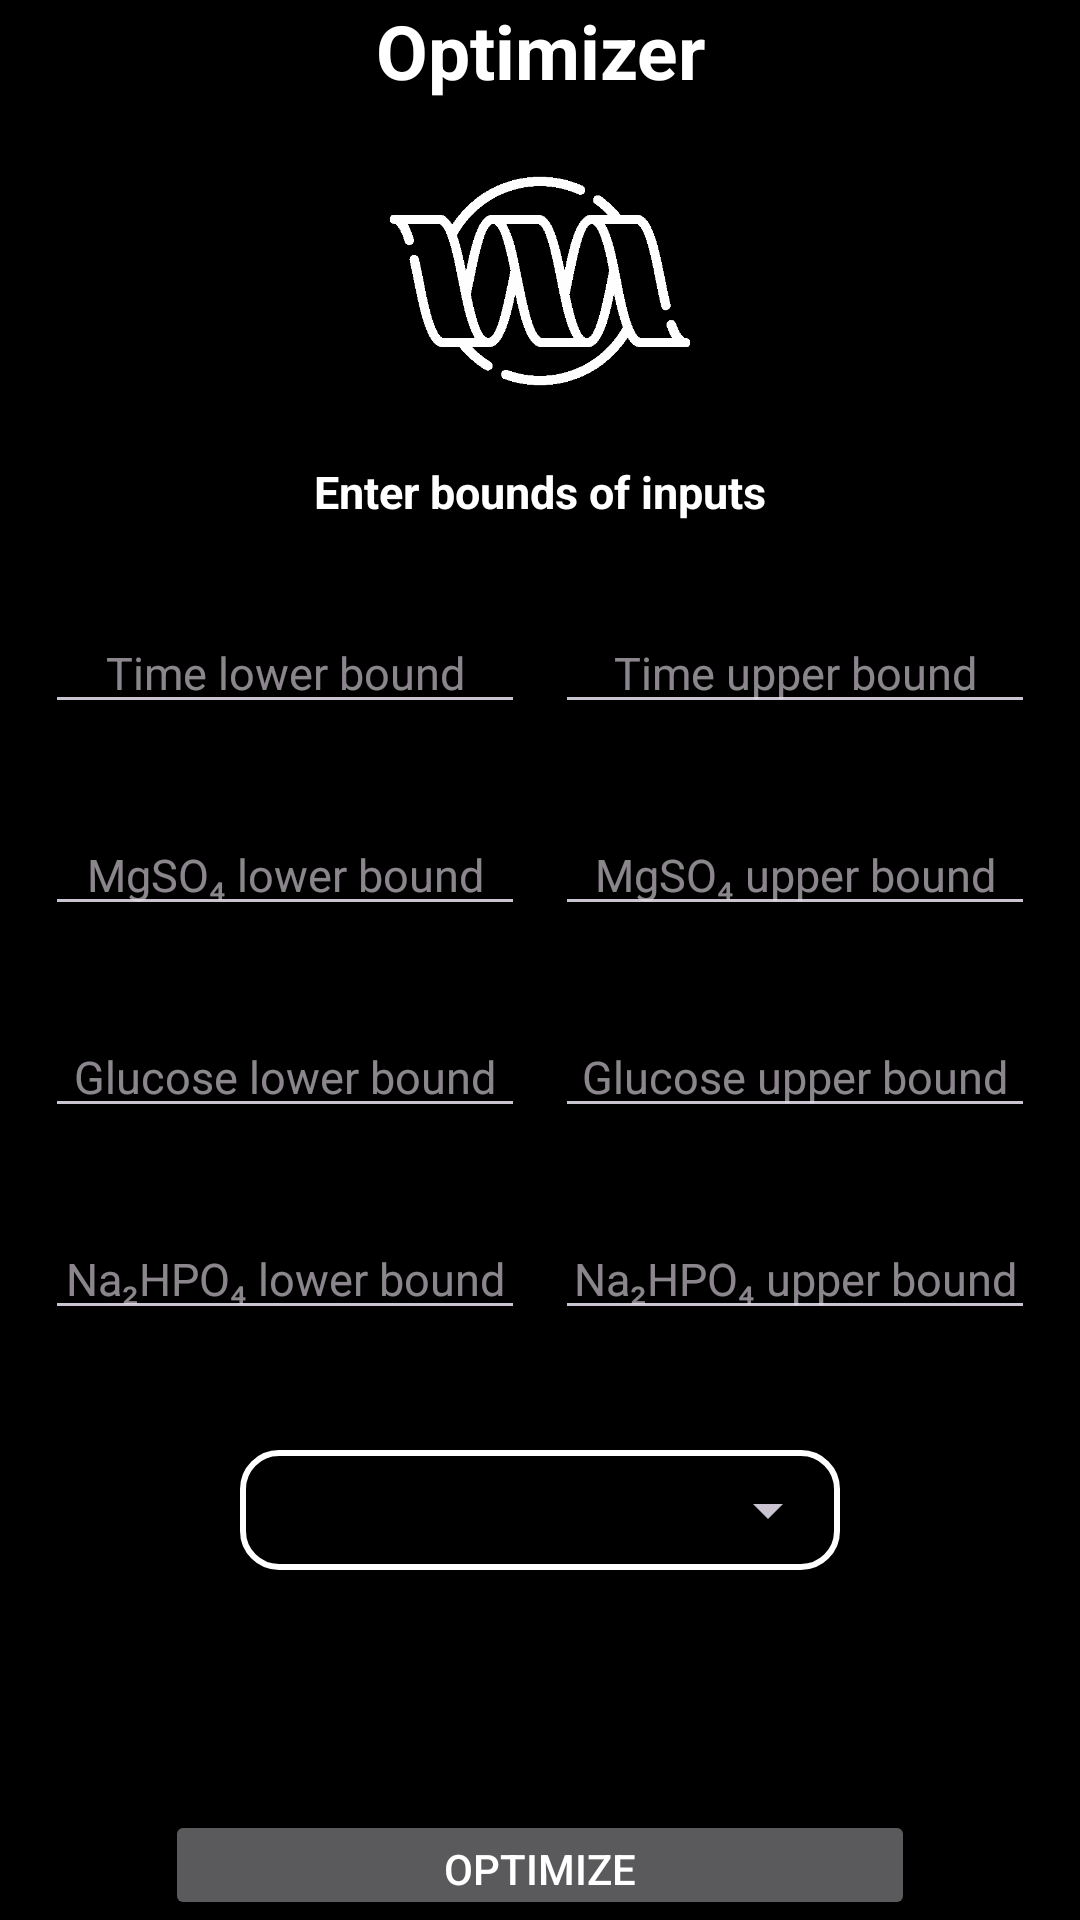

Where icons sit on this 1080×1920 app screen, as box=[x1, y1, x2, y2]:
horizontalprotein: box=[390, 176, 690, 386]
